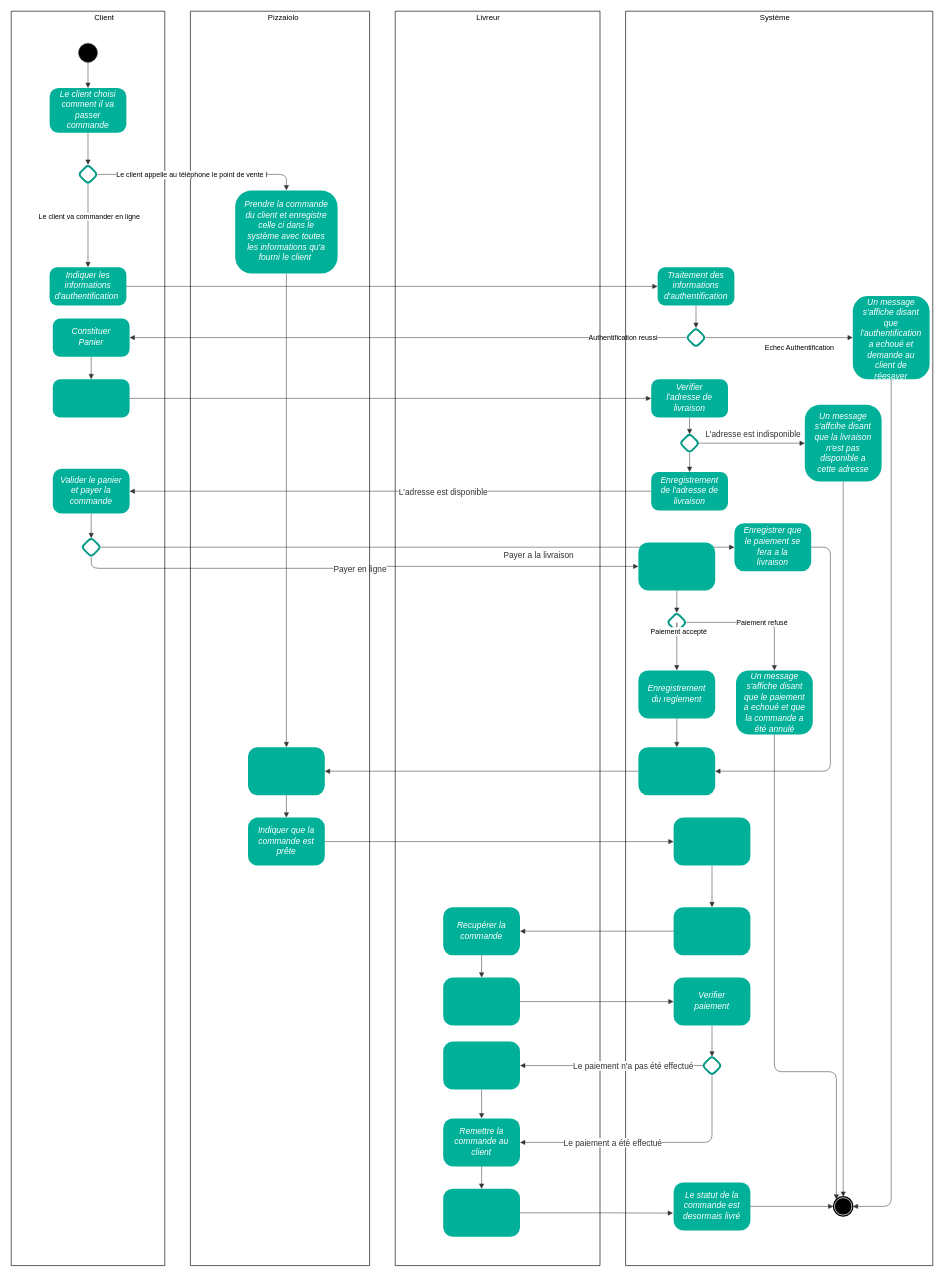
Some shapes in this 944 by 1277 pixel diagram are drawn without their labels. The centre of each missing label's shape, as x and y in pixels:
"Aller a l'adresse de livraison que le sytème indique" belongs at (x=481, y=1001).
"Encaisser le client" belongs at (x=481, y=1065).
"Indiquer que la commande a été livré" belongs at (x=481, y=1212).
"La commande est prête a étre recuperé par le livreur" belongs at (x=711, y=931).
"Le commande est en attente de préparation" belongs at (x=676, y=771).
"Preparer la commande" belongs at (x=286, y=771).
"Proceder au paiement maintenant" belongs at (x=676, y=566).
"Retirer les ingrédients utlisés des stocks" belongs at (x=711, y=841).
"Saisir information de livraison" belongs at (x=91, y=398).
